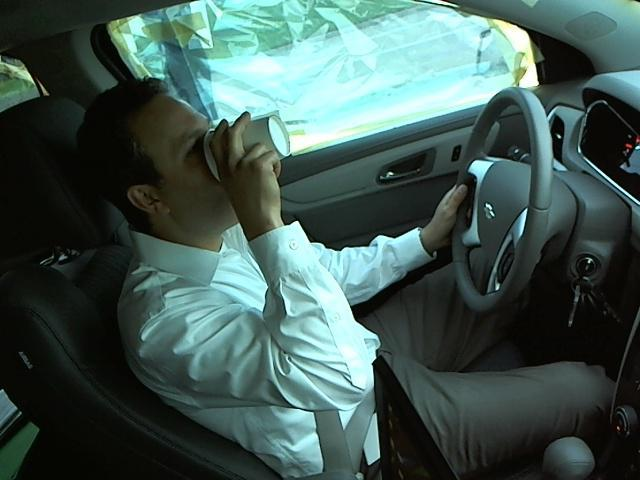Drinking: (88, 80, 291, 226)
